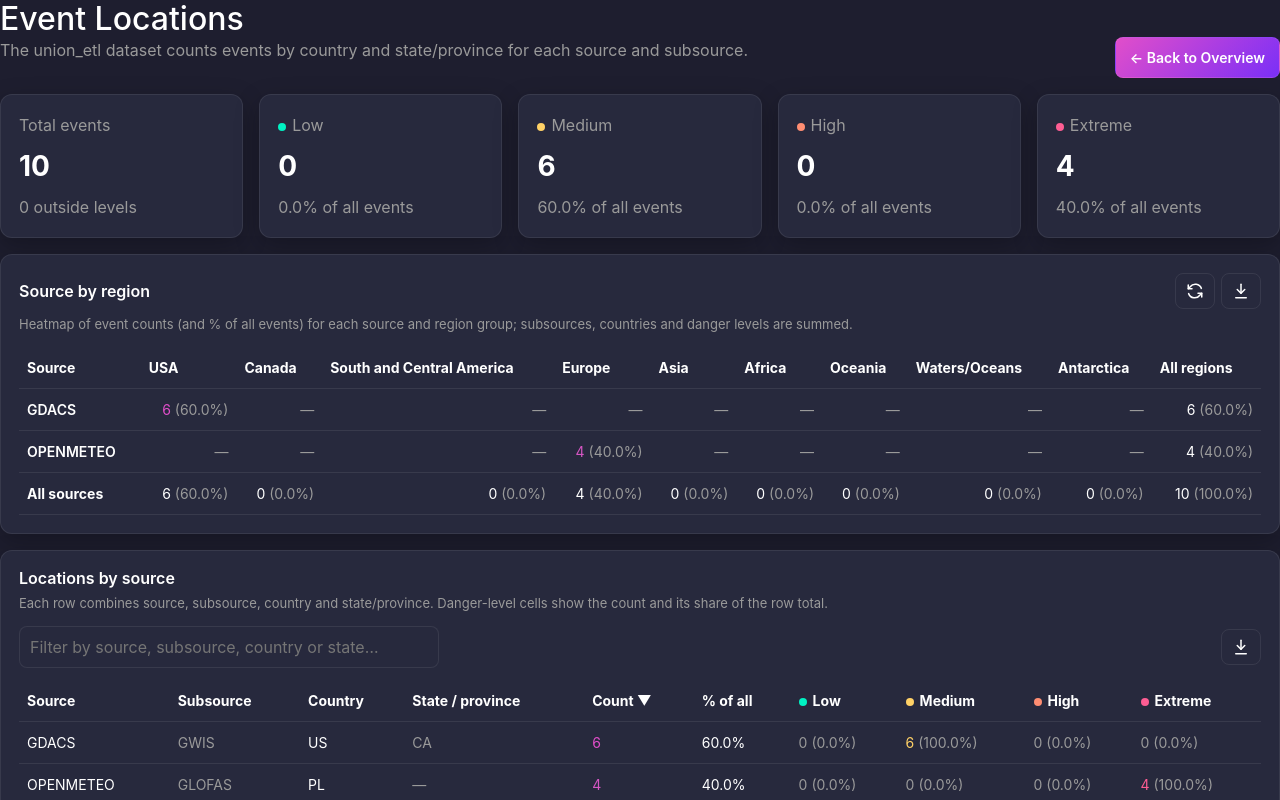
Test: EventCountsView › loads and summarizes event locations
Expected: the heading "Event Locations" is shown, [0,0,244,38]
Expected: the text "counts events by country and state/province for each source and subsource" is shown, [0,40,748,60]
What coordinates should you click on to do the following:
click the button named "Transpose"
I would click on:
 (1195, 291)
Its box is [1175,273,1215,309].
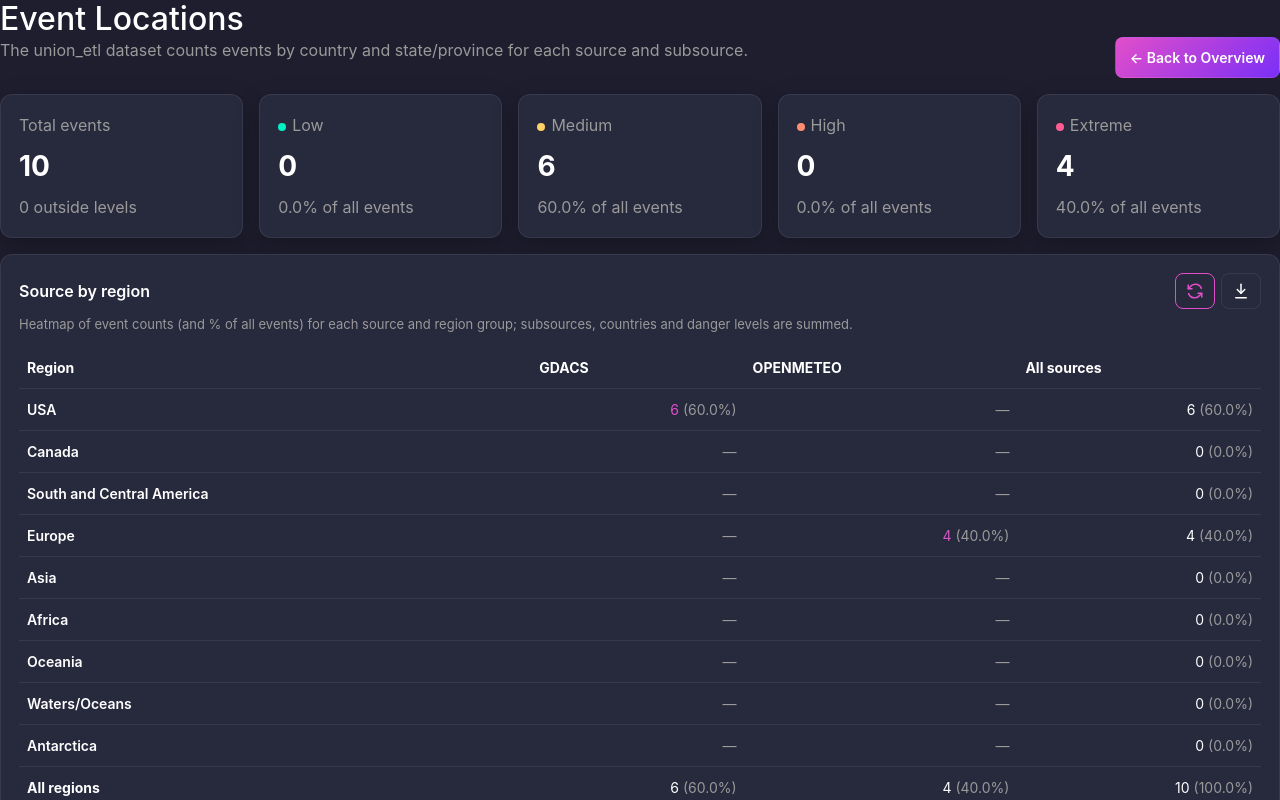
Expected: the column heading "Region" is shown, [19,347,531,388]
